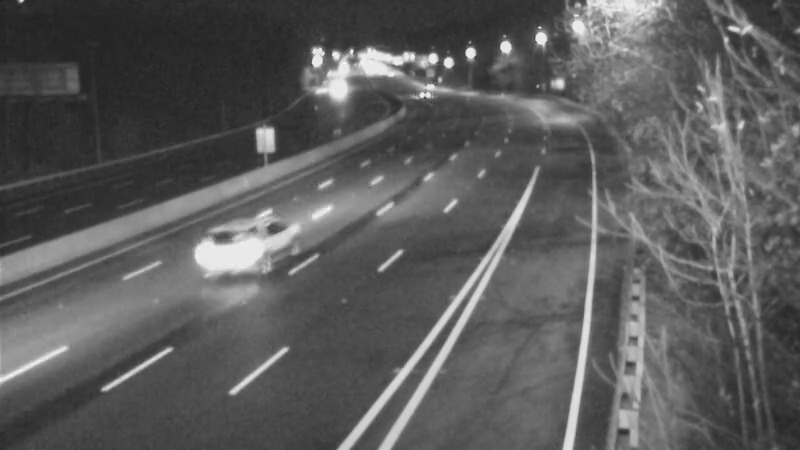vehicle: (197, 209, 277, 289), (405, 73, 455, 123), (309, 63, 359, 113)
